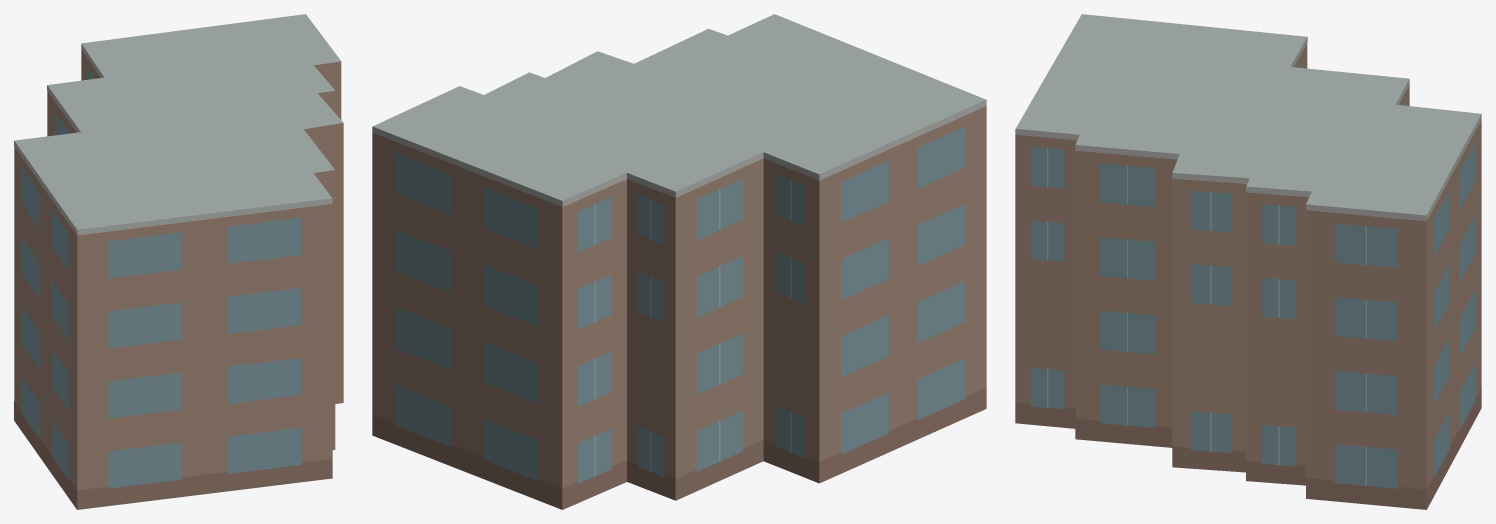
File: survey-upis-33032781.glb
3 views of the same model, side by side, from view 1: azimuth 30°, elevation 25°; view 2: azimuth 150°, elevation 25°; view 3: azimuth 270°, elevation 25° (orthographic). The views are drawn at different scales.
Visible parts, largest first — view 1: survey-upis-33032781.tmp; view 2: survey-upis-33032781.tmp; view 3: survey-upis-33032781.tmp.
Boxes of the visible parts, x1=… form: survey-upis-33032781.tmp: x1=14, y1=14, x2=343, y2=509; survey-upis-33032781.tmp: x1=372, y1=14, x2=986, y2=509; survey-upis-33032781.tmp: x1=1015, y1=14, x2=1481, y2=509.
Bounding box in the file's own units: 17.92 × 12.2 × 17.52.
